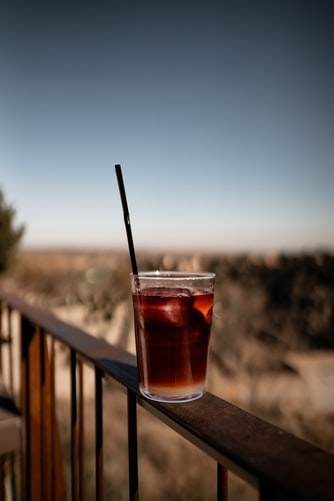whiskey: (137, 272, 216, 401)
